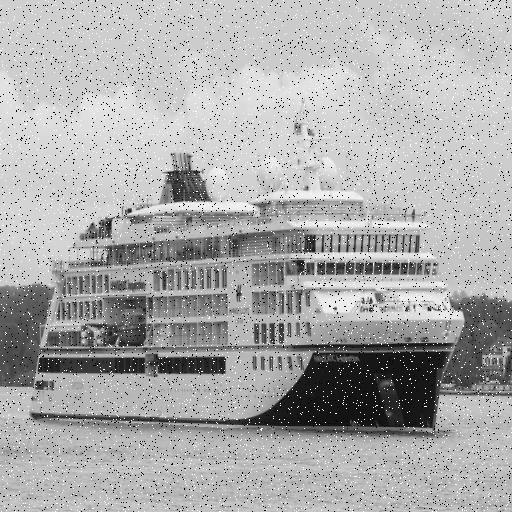cruises: (27, 109, 466, 441)
